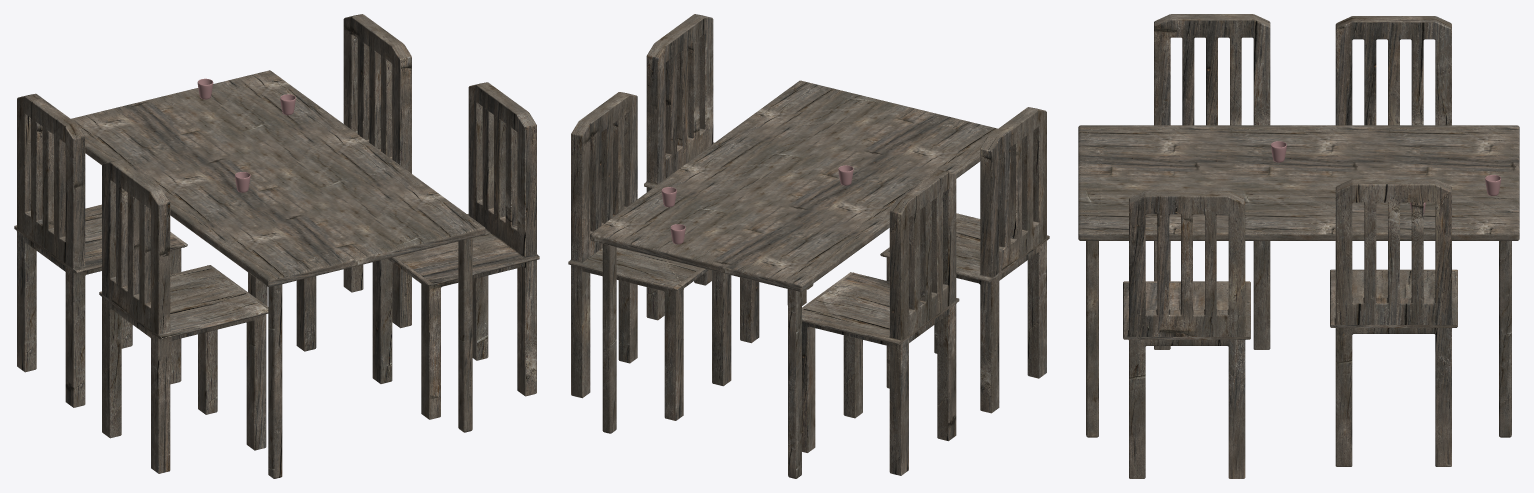
The model's file is obj_a_table_chairs_few_cups_724d93.glb.
3 views of the same model, side by side, from view 1: azimuth 30°, elevation 25°; view 2: azimuth 150°, elevation 25°; view 3: azimuth 270°, elevation 25° (orthographic). The views are drawn at different scales.
Parts seen in each view (by area): view 1: obj_a_table_chairs_few_cups_724d93; view 2: obj_a_table_chairs_few_cups_724d93; view 3: obj_a_table_chairs_few_cups_724d93.
Boxes of the visible parts, x1,y1,x2,y2 form: obj_a_table_chairs_few_cups_724d93: [14, 14, 539, 478]; obj_a_table_chairs_few_cups_724d93: [568, 14, 1049, 478]; obj_a_table_chairs_few_cups_724d93: [1078, 14, 1519, 478].
Size of the model in its own units: 1.04 by 0.75 by 1.06.
2 materials, 1 textured.
